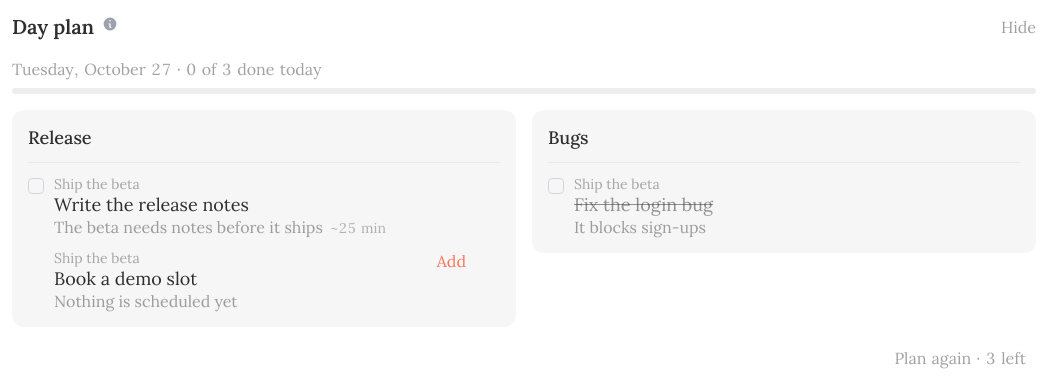
Test: DayPlanSection › Plan again (R68) › should show the count and say nothing has changed when the redraw is the plan on screen
Expected: the text "Write the release notes" is shown, [54, 193, 249, 217]
Click the button "Plan again · 3 left" at (960, 358), box [884, 343, 1036, 373]
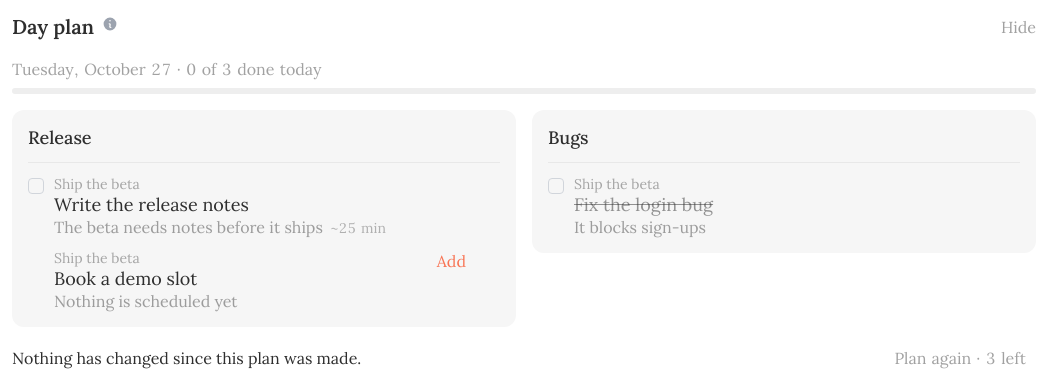
Expected: the text "Write the release notes" is shown, [54, 193, 249, 217]
Result: the text "Nothing has changed since this plan was made." is shown at [12, 347, 361, 369]
